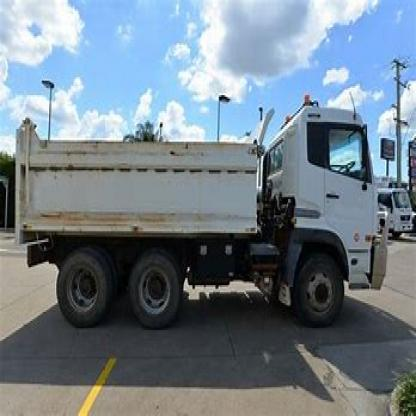dump_truck: (12, 84, 386, 348)
